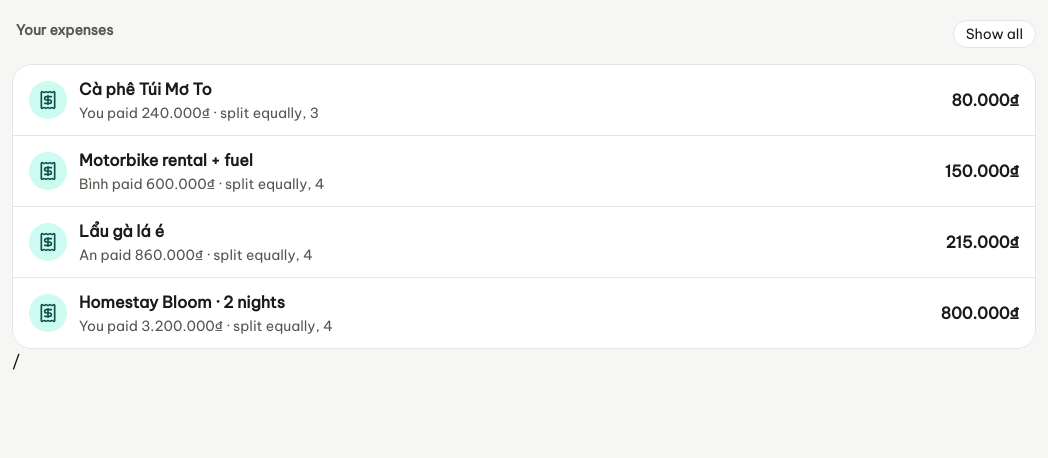
Test: ExpenseList › shows only expenses with you; Show all reveals the rest at 0₫
Expected: the text "Homestay Bloom · 2 nights" is shown, [79,292,285,312]
Expected: the text "Bánh mì" is not shown
Click the button "Show all": point(990, 34) [945,12,1036,56]
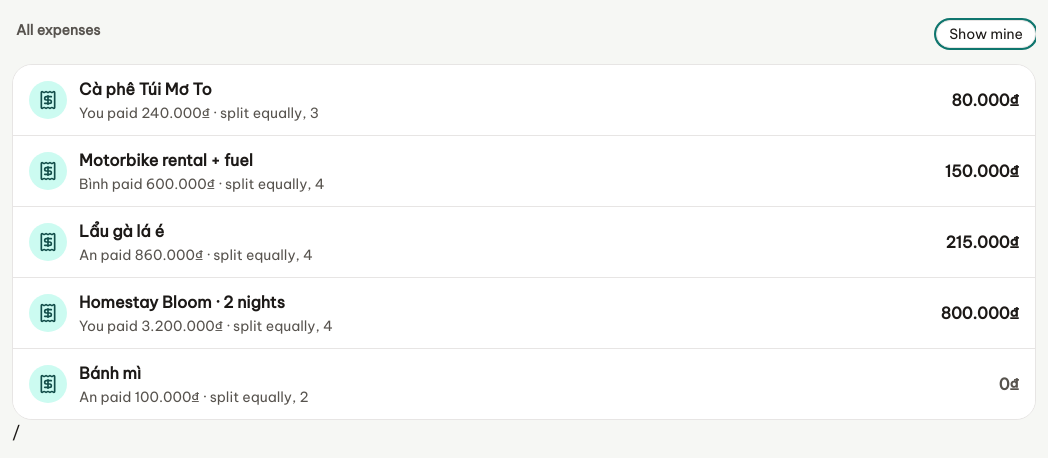
Now the text "0₫" is shown, box [999,372,1019,396]
Now the text "An paid 100.000₫ · split equally, 2" is shown, box [79,388,309,406]
Now the button "Show mine" is shown, box [928,12,1036,56]
